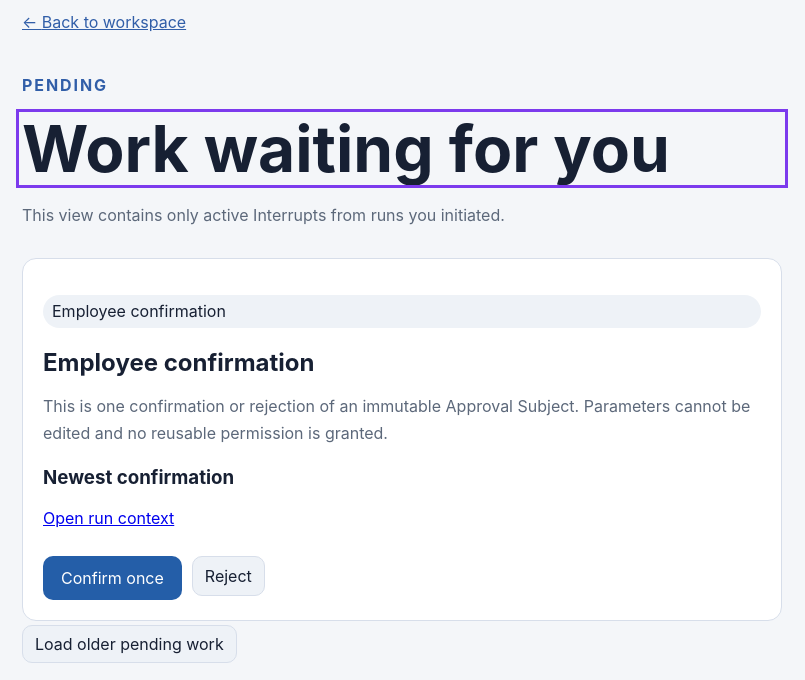
Test: Pending Workspace › refreshes stale or concurrently handled work into natural current-state copy
Expected: the heading "Newest confirmation" is shown, [43,466,234,489]
Click the button "Confirm once" at point(112, 578), box [43,556,182,600]
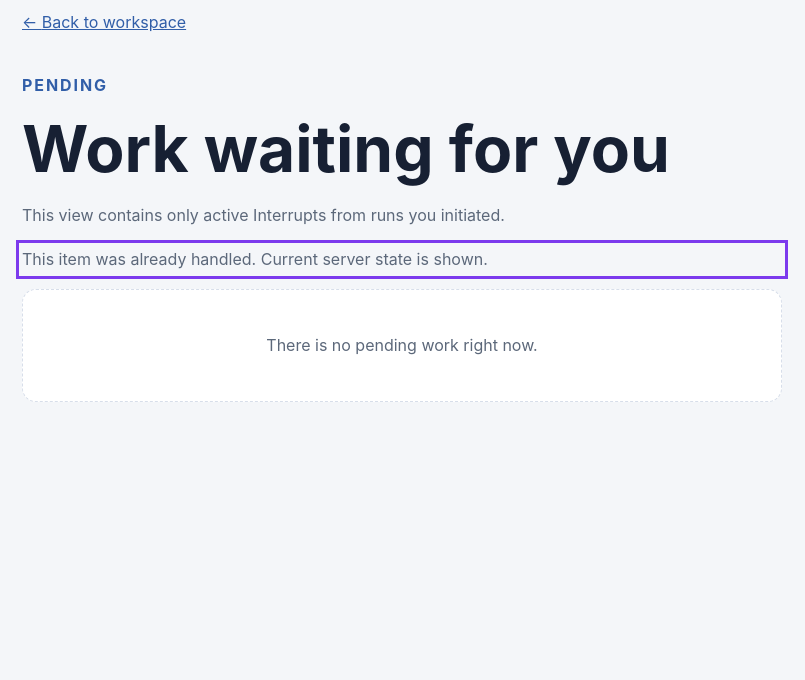
Now the text "This item was already handled. Current server state is shown." is shown, box [22,249,488,269]
